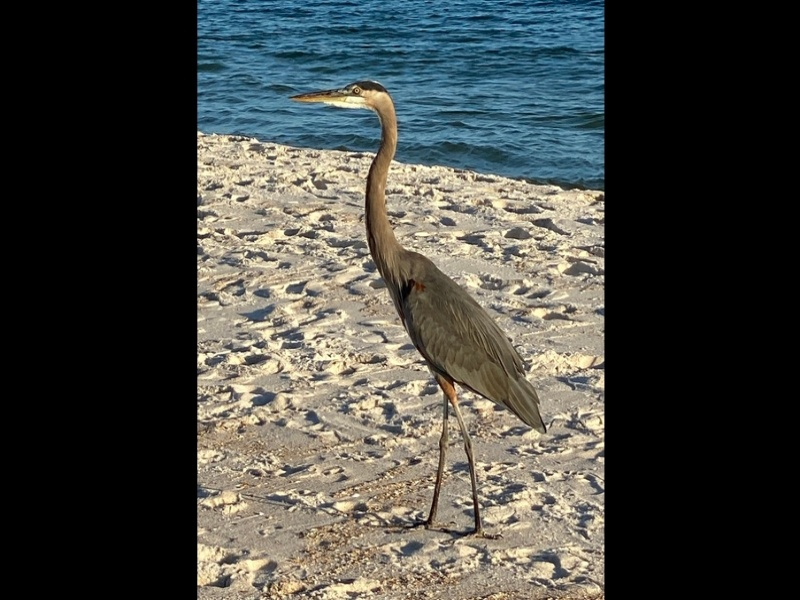heron: (287, 77, 547, 542)
